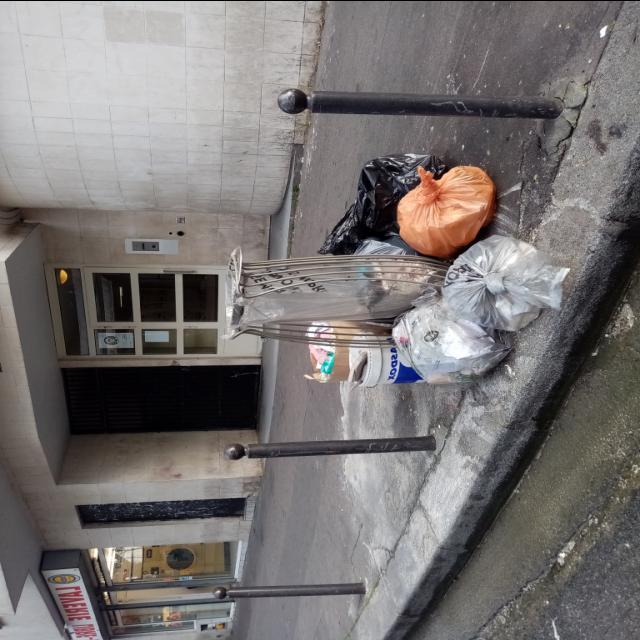Trashbag: (314, 143, 442, 259)
